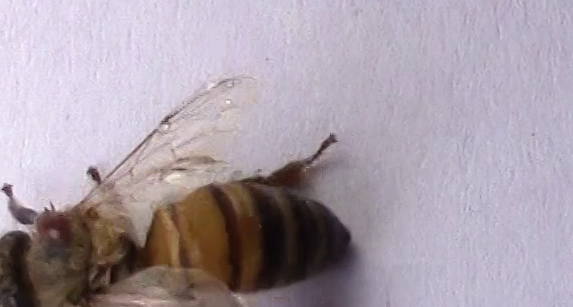Varroa destructor: (35, 205, 73, 245)
